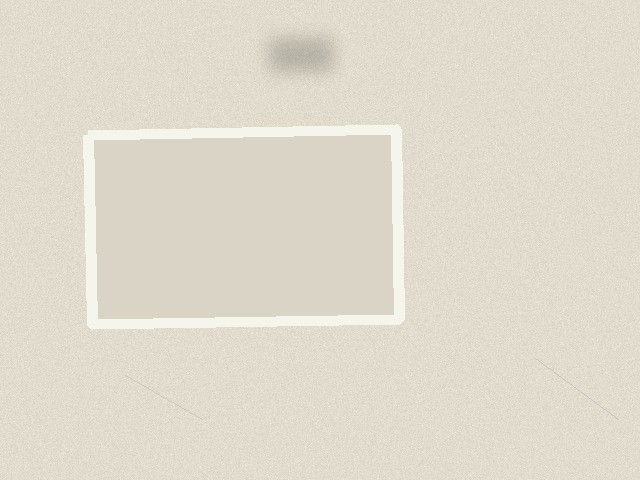parking_area: (88, 129, 399, 324)
